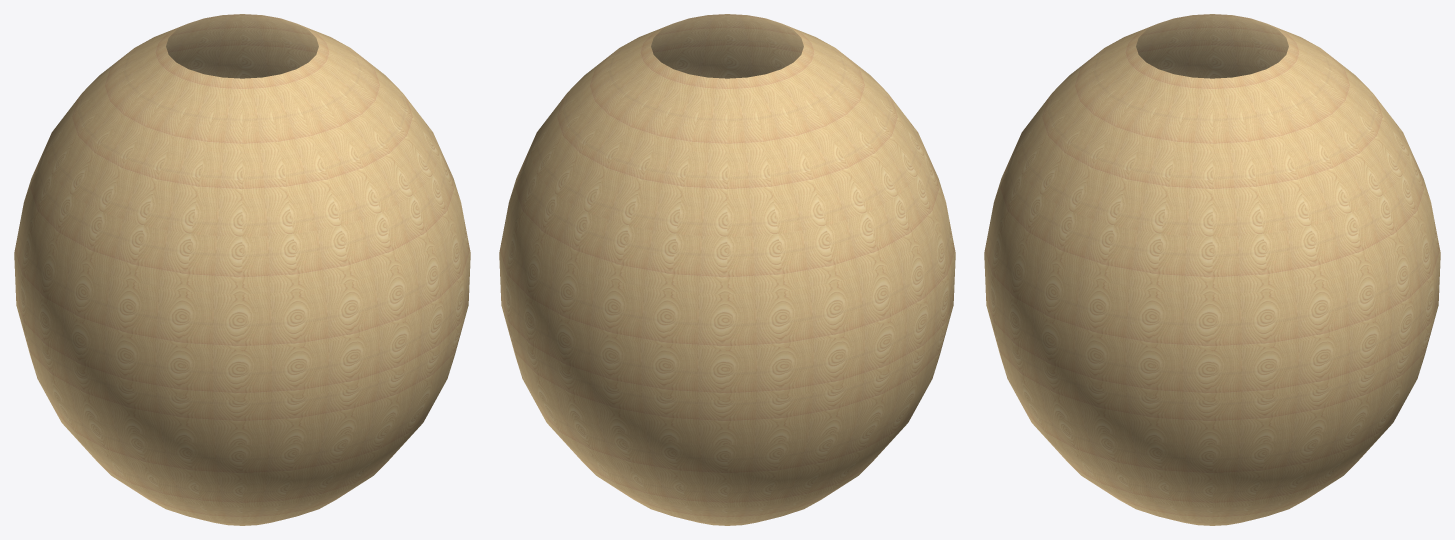
Rendered from original-1.obj.
The picture shows the model from 3 angles, left to right: view 1: azimuth 30°, elevation 25°; view 2: azimuth 150°, elevation 25°; view 3: azimuth 270°, elevation 25°; orthographic projection.
Parts seen in each view (by area): view 1: mesh1/mesh1-geometry#mesh1-geometry; view 2: mesh1/mesh1-geometry#mesh1-geometry; view 3: mesh1/mesh1-geometry#mesh1-geometry.
Part boxes in pixels (x1=…): mesh1/mesh1-geometry#mesh1-geometry: x1=14, y1=14, x2=470, y2=525; mesh1/mesh1-geometry#mesh1-geometry: x1=499, y1=14, x2=955, y2=525; mesh1/mesh1-geometry#mesh1-geometry: x1=984, y1=14, x2=1440, y2=525.
Size of the model in its own units: 1.18 by 1.3 by 1.18.
